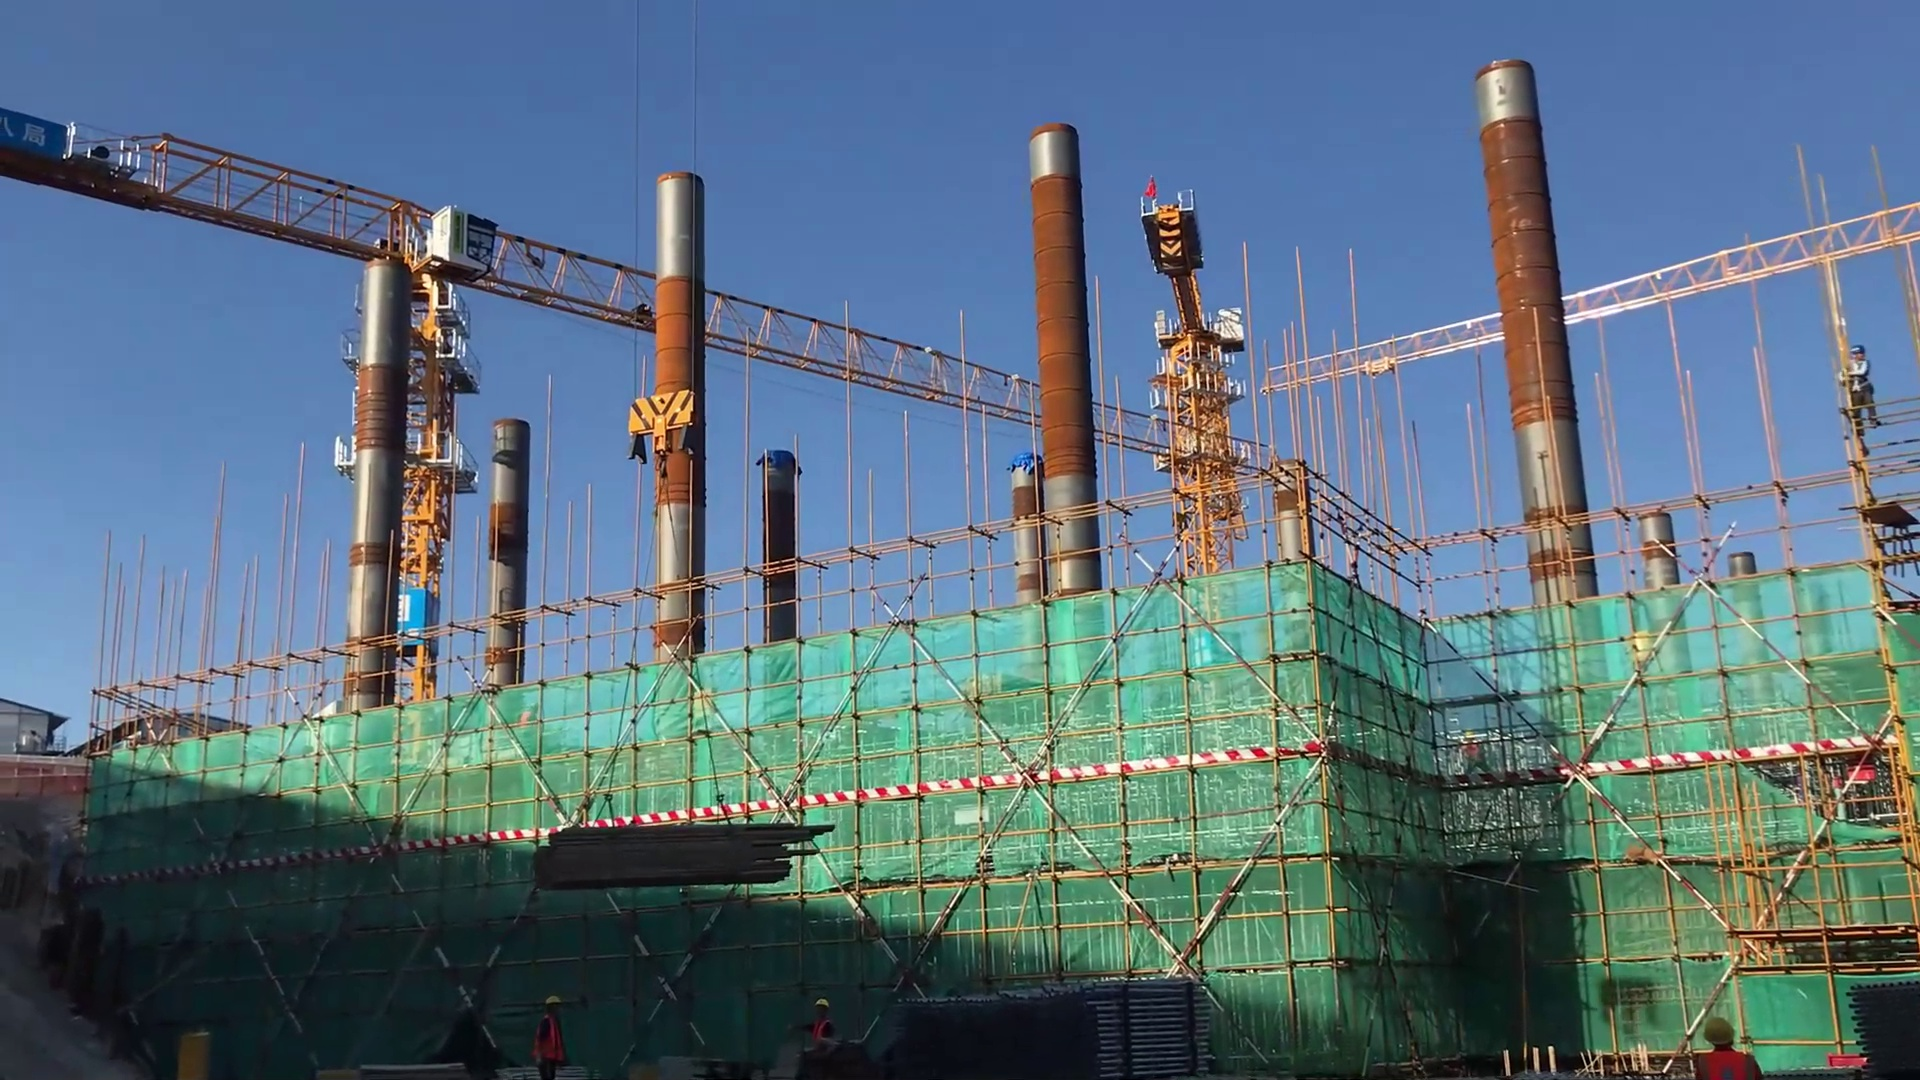ebox: (174, 1030, 216, 1080)
helmet: (1847, 342, 1865, 360)
hook: (628, 387, 697, 467)
person: (1836, 342, 1892, 436), (531, 995, 563, 1080), (809, 993, 834, 1046)
vest: (1841, 363, 1877, 401)
wood: (518, 811, 836, 900)
